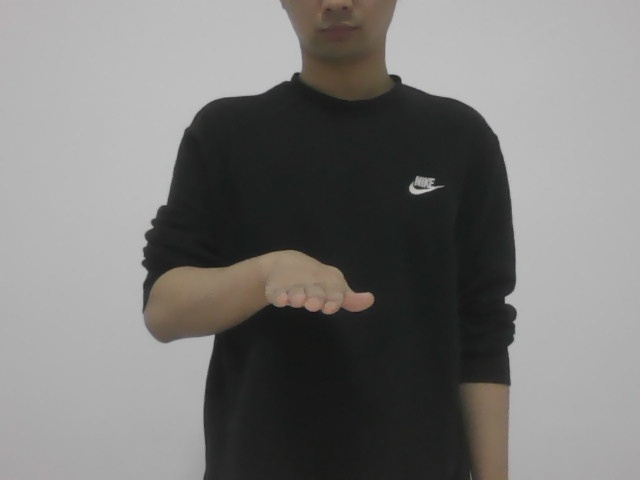slow: (262, 238, 376, 330)
